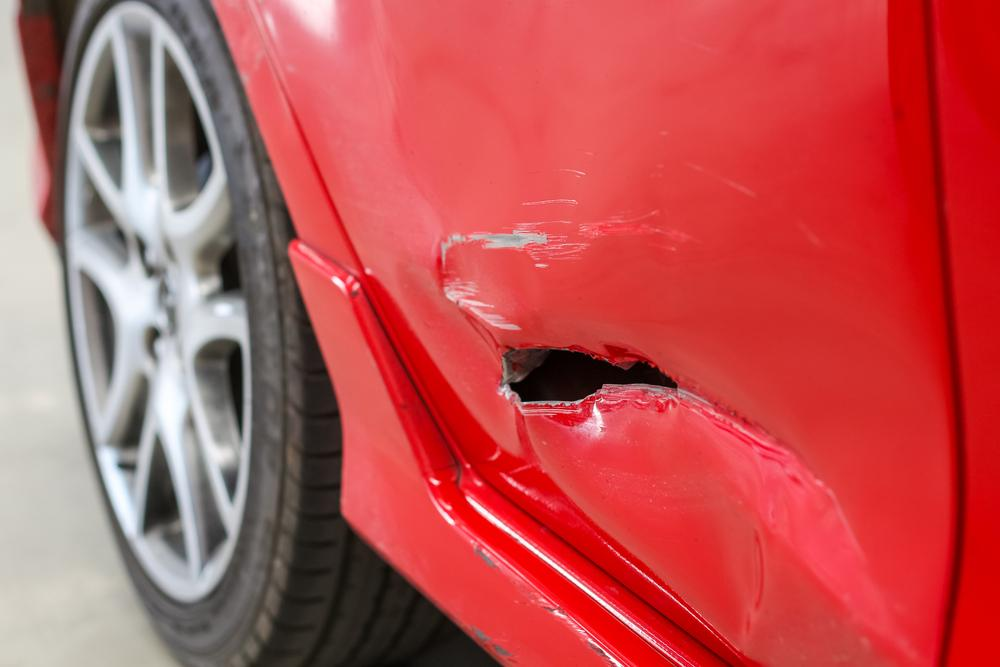crack: (496, 347, 683, 412)
dent: (517, 385, 917, 667)
scratch: (425, 170, 709, 339), (457, 540, 616, 667)
